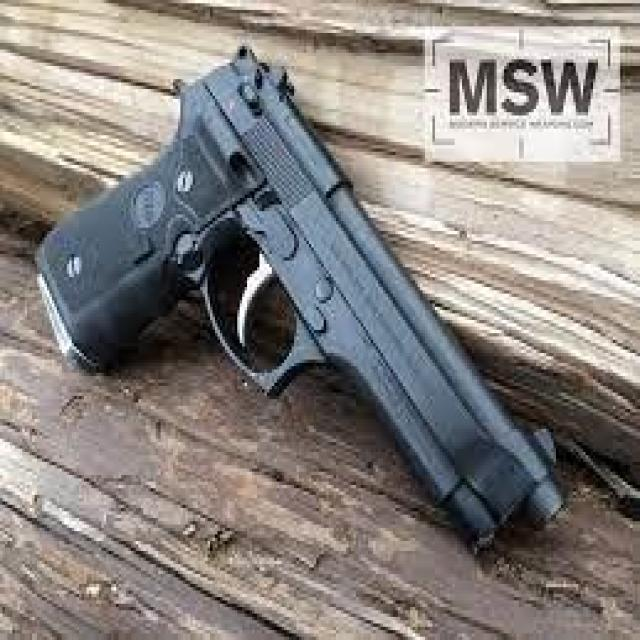Gun: (54, 46, 578, 566)
